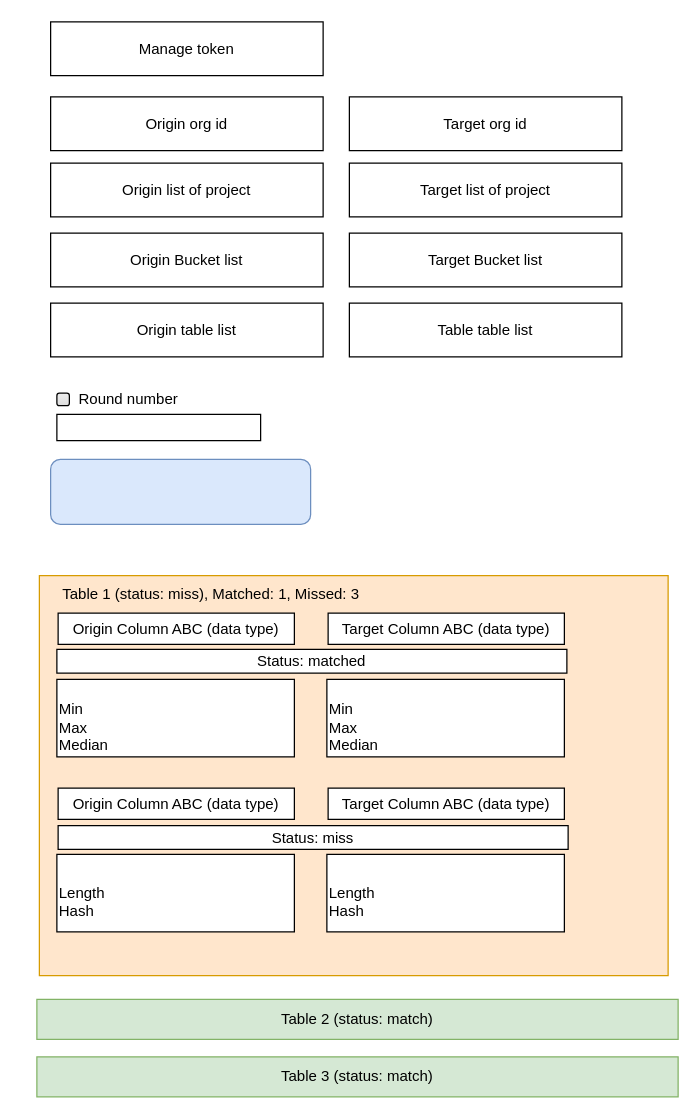
This 700x1119 diagram has some shape labels left out. The centre of each missing label's shape, as x and y in pixels:
Check: the point at 180,491
Number after point: the point at 158,427
